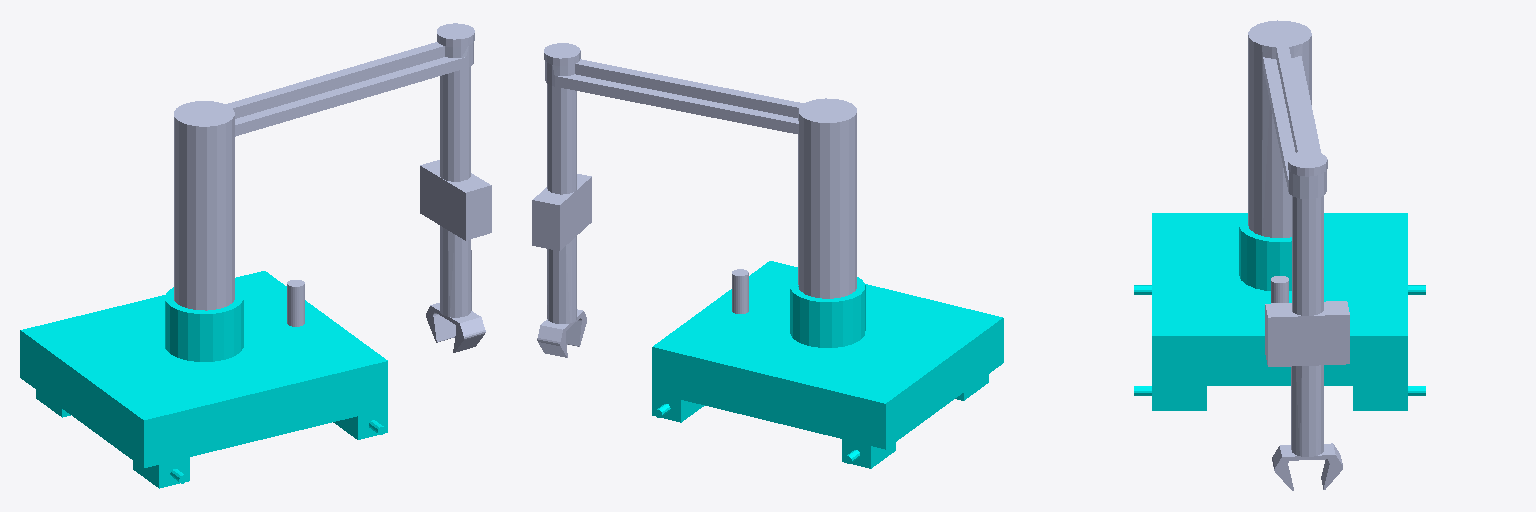
URDF robot description (Assem1_4):
<!-- This URDF was automatically created by SolidWorks to URDF Exporter! Originally created by Stephen Brawner (brawner@gmail.com) 
     Commit Version: 1.6.0-4-g7f85cfe  Build Version: 1.6.7995.38578
     For more information, please see http://wiki.ros.org/sw_urdf_exporter -->
<robot
  name="Assem1_4">
  <link
    name="base_link">
    <inertial>
      <origin xyz="0 0 0" rpy="0 0 0" />
      <mass value="0.01" />
      <inertia ixx="1e-5" ixy="0" ixz="0" iyy="1e-5" iyz="0" izz="1e-5" />
    </inertial>
  </link>
  <joint
    name="base_link_to_Than_link"
    type="fixed">
    <origin xyz="0 0 0" rpy="0 0 0" />
    <parent link="base_link" />
    <child link="Than_link" />
  </joint>
  <link
    name="Than_link">
    <inertial>
      <origin
        xyz="0.000442329603682311 1.38777878078145E-17 -0.0147661297993676"
        rpy="0 0 0" />
      <mass
        value="0.748858120628714" />
      <inertia
        ixx="0.00132126261963691"
        ixy="-1.22198382643935E-19"
        ixz="4.48524168657791E-06"
        iyy="0.00169700869488117"
        iyz="-8.28738846579237E-21"
        izz="0.00281570456824719" />
    </inertial>
    <visual>
      <origin
        xyz="0 0 0"
        rpy="0 0 0" />
      <geometry>
        <mesh
          filename="package://my_robot_description/meshes/Than_link.STL" />
      </geometry>
      <material
        name="">
        <color
          rgba="0 1 1 1" />
      </material>
    </visual>
    <collision>
      <origin
        xyz="0 0 0"
        rpy="0 0 0" />
      <geometry>
        <mesh
          filename="package://my_robot_description/meshes/Than_link.STL" />
      </geometry>
    </collision>
  </link>
  <link
    name="IMU_Link">
    <inertial>
      <origin
        xyz="0 0 0.0014776968040973"
        rpy="0 0 0" />
      <mass
        value="0.00352146018366025" />
      <inertia
        ixx="4.82099586051184E-07"
        ixy="-2.18340146633628E-09"
        ixz="-3.2082399090467E-25"
        iyy="2.72144993264679E-07"
        iyz="-1.83741251557529E-24"
        izz="7.49018252295753E-07" />
    </inertial>
    <visual>
      <origin
        xyz="0 0 0"
        rpy="0 0 0" />
      <geometry>
        <mesh
          filename="package://my_robot_description/meshes/IMU_Link.STL" />
      </geometry>
      <material
        name="">
        <color
          rgba="0.792156862745098 0.819607843137255 0.933333333333333 1" />
      </material>
    </visual>
    <collision>
      <origin
        xyz="0 0 0"
        rpy="0 0 0" />
      <geometry>
        <mesh
          filename="package://my_robot_description/meshes/IMU_Link.STL" />
      </geometry>
    </collision>
  </link>
  <joint
    name="IMU_Joint"
    type="fixed">
    <origin
      xyz="0.00022731090687704 0 -0.035"
      rpy="0 0 0" />
    <parent
      link="Than_link" />
    <child
      link="IMU_Link" />
    <axis
      xyz="0 0 0" />
  </joint>
  <link
    name="Lidar_Link">
    <inertial>
      <origin
        xyz="0 0 1.0842021724855E-18"
        rpy="0 0 0" />
      <mass
        value="0.00235619449019234" />
      <inertia
        ixx="1.91440802328128E-07"
        ixy="5.65455496862421E-26"
        ixz="-1.03397576569129E-25"
        iyy="1.91440802328128E-07"
        iyz="-3.30872245021211E-24"
        izz="2.94524311274043E-08" />
    </inertial>
    <visual>
      <origin
        xyz="0 0 0"
        rpy="0 0 0" />
      <geometry>
        <mesh
          filename="package://my_robot_description/meshes/Lidar_Link.STL" />
      </geometry>
      <material
        name="">
        <color
          rgba="0.792156862745098 0.819607843137255 0.933333333333333 1" />
      </material>
    </visual>
    <collision>
      <origin
        xyz="0 0 0"
        rpy="0 0 0" />
      <geometry>
        <mesh
          filename="package://my_robot_description/meshes/Lidar_Link.STL" />
      </geometry>
    </collision>
  </link>
  <joint
    name="Lidar_Joint"
    type="continuous">
    <origin
      xyz="0.060227310906877 0 0.01"
      rpy="0 0 0" />
    <parent
      link="Than_link" />
    <child
      link="Lidar_Link" />
    <axis
      xyz="0 0 1" />
  </joint>
  <link
    name="Link1_Link">
    <inertial>
      <origin
        xyz="0.0191237781200909 4.85722573273506E-17 -0.0516247609751773"
        rpy="0 0 0" />
      <mass
        value="0.150732784093452" />
      <inertia
        ixx="0.000237496144118951"
        ixy="6.94567016748526E-20"
        ixz="-0.000123906577981915"
        iyy="0.000516766309417115"
        iyz="1.54886727854317E-19"
        izz="0.000299521724231038" />
    </inertial>
    <visual>
      <origin
        xyz="0 0 0"
        rpy="0 0 0" />
      <geometry>
        <mesh
          filename="package://my_robot_description/meshes/Link1_Link.STL" />
      </geometry>
      <material
        name="">
        <color
          rgba="0.792156862745098 0.819607843137255 0.933333333333333 1" />
      </material>
    </visual>
    <collision>
      <origin
        xyz="0 0 0"
        rpy="0 0 0" />
      <geometry>
        <mesh
          filename="package://my_robot_description/meshes/Link1_Link.STL" />
      </geometry>
    </collision>
  </link>
  <joint
    name="Link1_Joint"
    type="revolute">
    <origin
      xyz="0.00022731 0 0.145"
      rpy="0 0 0.086826" />
    <parent
      link="Than_link" />
    <child
      link="Link1_Link" />
    <axis
      xyz="0 0 1" />
    <limit
      lower="-1.5708"
      upper="1.5708"
      effort="0"
      velocity="0" />
  </joint>
  <link
    name="Link2_Link">
    <inertial>
      <origin
        xyz="-1.38777878078145E-17 0 -0.097292921371127"
        rpy="0 0 0" />
      <mass
        value="0.0655981488382263" />
      <inertia
        ixx="0.000160267296835104"
        ixy="8.470329472543E-22"
        ixz="7.84938705964634E-21"
        iyy="0.000156289829749955"
        iyz="2.5210056480331E-21"
        izz="7.00039535868368E-06" />
    </inertial>
    <visual>
      <origin
        xyz="0 0 0"
        rpy="0 0 0" />
      <geometry>
        <mesh
          filename="package://my_robot_description/meshes/Link2_Link.STL" />
      </geometry>
      <material
        name="">
        <color
          rgba="0.792156862745098 0.819607843137255 0.933333333333333 1" />
      </material>
    </visual>
    <collision>
      <origin
        xyz="0 0 0"
        rpy="0 0 0" />
      <geometry>
        <mesh
          filename="package://my_robot_description/meshes/Link2_Link.STL" />
      </geometry>
    </collision>
  </link>
  <joint
    name="Link2_Joint"
    type="prismatic">
    <origin
      xyz="0.174 0 0.005"
      rpy="0 0 0" />
    <parent
      link="Link1_Link" />
    <child
      link="Link2_Link" />
    <axis
      xyz="0 0 1" />
    <limit
      lower="0"
      upper="0.07"
      effort="0"
      velocity="0" />
  </joint>
  <link
    name="EF_Link">
    <inertial>
      <origin
        xyz="0 -6.93889390390723E-18 0.080207078628873"
        rpy="0 0 0" />
      <mass
        value="0.0655981488382263" />
      <inertia
        ixx="0.000160267296835104"
        ixy="8.470329472543E-22"
        ixz="7.9026032502626E-21"
        iyy="0.000156289829749955"
        iyz="3.12464102496124E-21"
        izz="7.00039535868368E-06" />
    </inertial>
    <visual>
      <origin
        xyz="0 0 0"
        rpy="0 0 0" />
      <geometry>
        <mesh
          filename="package://my_robot_description/meshes/EF_Link.STL" />
      </geometry>
      <material
        name="">
        <color
          rgba="0.792156862745098 0.819607843137255 0.933333333333333 1" />
      </material>
    </visual>
    <collision>
      <origin
        xyz="0 0 0"
        rpy="0 0 0" />
      <geometry>
        <mesh
          filename="package://my_robot_description/meshes/EF_Link.STL" />
      </geometry>
    </collision>
  </link>
  <joint
    name="EF_Joint"
    type="fixed">
    <origin
      xyz="0 0 -0.1775"
      rpy="0 0 0" />
    <parent
      link="Link2_Link" />
    <child
      link="EF_Link" />
    <axis
      xyz="0 0 0" />
  </joint>
  <link
    name="TraiTren_Link">
    <inertial>
      <origin
        xyz="-2.6021806424914E-08 9.87935387664063E-09 -0.0100370434626109"
        rpy="0 0 0" />
      <mass
        value="0.0490880430650538" />
      <inertia
        ixx="5.47276922765843E-06"
        ixy="4.61818969978452E-12"
        ixz="-6.37660590093238E-12"
        iyy="5.47277887760723E-06"
        iyz="3.97927918394281E-12"
        izz="7.31754014308783E-06" />
    </inertial>
    <visual>
      <origin
        xyz="0 0 0"
        rpy="0 0 0" />
      <geometry>
        <mesh
          filename="package://my_robot_description/meshes/TraiTren_Link.STL" />
      </geometry>
      <material
        name="">
        <color
          rgba="0.792156862745098 0.819607843137255 0.933333333333333 1" />
      </material>
    </visual>
    <collision>
      <origin
        xyz="0 0 0"
        rpy="0 0 0" />
      <geometry>
        <mesh
          filename="package://my_robot_description/meshes/TraiTren_Link.STL" />
      </geometry>
    </collision>
  </link>
  <joint
    name="TraiTren_Joint"
    type="continuous">
    <origin
      xyz="0.070227 0.0976 -0.0375"
      rpy="-1.5708 0 0" />
    <parent
      link="Than_link" />
    <child
      link="TraiTren_Link" />
    <axis
      xyz="0 0 1" />
  </joint>
  <link
    name="TraiDuoi_Link">
    <inertial>
      <origin
        xyz="1.9326354877558E-08 -2.19742951543256E-08 -0.0100369699673338"
        rpy="0 0 0" />
      <mass
        value="0.0490865409265873" />
      <inertia
        ixx="5.47242396499129E-06"
        ixy="-7.48455946382451E-11"
        ixz="-3.12442675120461E-13"
        iyy="5.47248338650657E-06"
        iyz="-5.85446156635274E-13"
        izz="7.31687370146398E-06" />
    </inertial>
    <visual>
      <origin
        xyz="0 0 0"
        rpy="0 0 0" />
      <geometry>
        <mesh
          filename="package://my_robot_description/meshes/TraiDuoi_Link.STL" />
      </geometry>
      <material
        name="">
        <color
          rgba="0.796078431372549 0.823529411764706 0.937254901960784 1" />
      </material>
    </visual>
    <collision>
      <origin
        xyz="0 0 0"
        rpy="0 0 0" />
      <geometry>
        <mesh
          filename="package://my_robot_description/meshes/TraiDuoi_Link.STL" />
      </geometry>
    </collision>
  </link>
  <joint
    name="TraiDuoi_Joint"
    type="continuous">
    <origin
      xyz="-0.059773 0.0976 -0.0375"
      rpy="-1.5708 0 0" />
    <parent
      link="Than_link" />
    <child
      link="TraiDuoi_Link" />
    <axis
      xyz="0 0 1" />
  </joint>
  <link
    name="PhaiTren_Link">
    <inertial>
      <origin
        xyz="-2.87334245147042E-08 1.31018131760419E-09 -0.0100369709873271"
        rpy="0 0 0" />
      <mass
        value="0.0490865372025414" />
      <inertia
        ixx="5.47252984326676E-06"
        ixy="-2.21995851687217E-11"
        ixz="-1.19072644962591E-13"
        iyy="5.47237638762637E-06"
        iyz="4.93090495214558E-13"
        izz="7.31687261518146E-06" />
    </inertial>
    <visual>
      <origin
        xyz="0 0 0"
        rpy="0 0 0" />
      <geometry>
        <mesh
          filename="package://my_robot_description/meshes/PhaiTren_Link.STL" />
      </geometry>
      <material
        name="">
        <color
          rgba="0.796078431372549 0.823529411764706 0.937254901960784 1" />
      </material>
    </visual>
    <collision>
      <origin
        xyz="0 0 0"
        rpy="0 0 0" />
      <geometry>
        <mesh
          filename="package://my_robot_description/meshes/PhaiTren_Link.STL" />
      </geometry>
    </collision>
  </link>
  <joint
    name="PhaiTren_Joint"
    type="continuous">
    <origin
      xyz="0.070227 -0.0976 -0.0375"
      rpy="1.5708 0 0" />
    <parent
      link="Than_link" />
    <child
      link="PhaiTren_Link" />
    <axis
      xyz="0 0 -1" />
  </joint>
  <link
    name="PhaiDuoi_Link">
    <inertial>
      <origin
        xyz="8.66815101641105E-09 -2.64499346938618E-08 -0.0100370434626114"
        rpy="0 0 0" />
      <mass
        value="0.0490880430650613" />
      <inertia
        ixx="5.47277958164225E-06"
        ixy="3.74674318234608E-12"
        ixz="9.11927955786228E-13"
        iyy="5.47276852361896E-06"
        iyz="-7.46084097716305E-12"
        izz="7.31754014308342E-06" />
    </inertial>
    <visual>
      <origin
        xyz="0 0 0"
        rpy="0 0 0" />
      <geometry>
        <mesh
          filename="package://my_robot_description/meshes/PhaiDuoi_Link.STL" />
      </geometry>
      <material
        name="">
        <color
          rgba="0.792156862745098 0.819607843137255 0.933333333333333 1" />
      </material>
    </visual>
    <collision>
      <origin
        xyz="0 0 0"
        rpy="0 0 0" />
      <geometry>
        <mesh
          filename="package://my_robot_description/meshes/PhaiDuoi_Link.STL" />
      </geometry>
    </collision>
  </link>
  <joint
    name="PhaiDuoi_Joint"
    type="continuous">
    <origin
      xyz="-0.059772689093123 -0.0976 -0.0375"
      rpy="1.5707963267949 0 0" />
    <parent
      link="Than_link" />
    <child
      link="PhaiDuoi_Link" />
    <axis
      xyz="0 0 -1" />
  </joint>

  <gazebo reference="IMU_Link">
    <sensor name="imu_sensor" type="imu">
      <always_on>true</always_on>
      <update_rate>100</update_rate>
      <plugin name="imu_plugin" filename="libgazebo_ros_imu_sensor.so">
        <ros>
          <namespace>/</namespace>
          <remapping>~/out:=/imu/data</remapping>
        </ros>
        <frame_name>IMU_Link</frame_name>
        <initial_orientation_as_reference>false</initial_orientation_as_reference>
      </plugin>
    </sensor>
  </gazebo>

  <gazebo reference="Lidar_Link">
    <material>Gazebo/Black</material>
    <sensor name="lidar" type="ray">
      <always_on>true</always_on>
      <visualize>true</visualize> 
      <update_rate>10</update_rate>
      <ray>
        <scan>
          <horizontal>
            <samples>360</samples>
            <resolution>1</resolution>
            <min_angle>-3.14159</min_angle>
            <max_angle>3.14159</max_angle>
          </horizontal>
        </scan>
        <range>
          <min>0.15</min>
          <max>12.0</max>
          <resolution>0.015</resolution>
        </range>
      </ray>
      <plugin name="scan" filename="libgazebo_ros_ray_sensor.so">
        <ros>
          <remapping>~/out:=scan</remapping>
        </ros>
        <output_type>sensor_msgs/LaserScan</output_type>
        <frame_name>Lidar_Link</frame_name>
      </plugin>
    </sensor>
  </gazebo>

  <gazebo>
    <plugin name="mecanum_planar_move" filename="libgazebo_ros_planar_move.so">
      <ros>
        <namespace>/</namespace>
      </ros>
      <command_topic>cmd_vel</command_topic>
      <odometry_topic>odom</odometry_topic>
      <odometry_frame>odom</odometry_frame>
      <robot_base_frame>base_link</robot_base_frame>
      <publish_odom>true</publish_odom>
      <publish_odom_tf>true</publish_odom_tf>
    </plugin>
  </gazebo>
</robot>

--- Render facts (derived) ---
3 views of the same robot in one strip: view 1: azimuth 30°, elevation 25°; view 2: azimuth 150°, elevation 25°; view 3: azimuth 270°, elevation 25° (orthographic).
Robot: Assem1_4 — 11 links, 10 joints (1 revolute, 5 continuous, 1 prismatic, 3 fixed); root link base_link; default pose: every joint at zero.
Links seen in each view (by area): view 1: Than_link, Link1_Link, Link2_Link, EF_Link, Lidar_Link; view 2: Than_link, Link1_Link, Link2_Link, EF_Link, Lidar_Link; view 3: Than_link, Link2_Link, Link1_Link.
Link boxes in pixels (x1,y1,x2,y2): Than_link: [20, 271, 387, 488]; Link1_Link: [174, 42, 473, 310]; Link2_Link: [420, 23, 491, 352]; EF_Link: [422, 67, 491, 352]; Lidar_Link: [287, 280, 304, 326]; Than_link: [652, 261, 1003, 468]; Link1_Link: [545, 59, 856, 298]; Link2_Link: [532, 43, 591, 357]; EF_Link: [532, 85, 591, 356]; Lidar_Link: [732, 269, 748, 313]; Than_link: [1134, 213, 1425, 410]; Link2_Link: [1265, 151, 1349, 490]; Link1_Link: [1248, 20, 1326, 237].
Bounding box of the posed robot: 0.2643 × 0.16 × 0.1961 m (x, y, z).
Meshes: 10 distinct files referenced, 6 mesh visuals loaded (6 binary STL); not drawn: 4 (reference not matched to a file when rendering).
